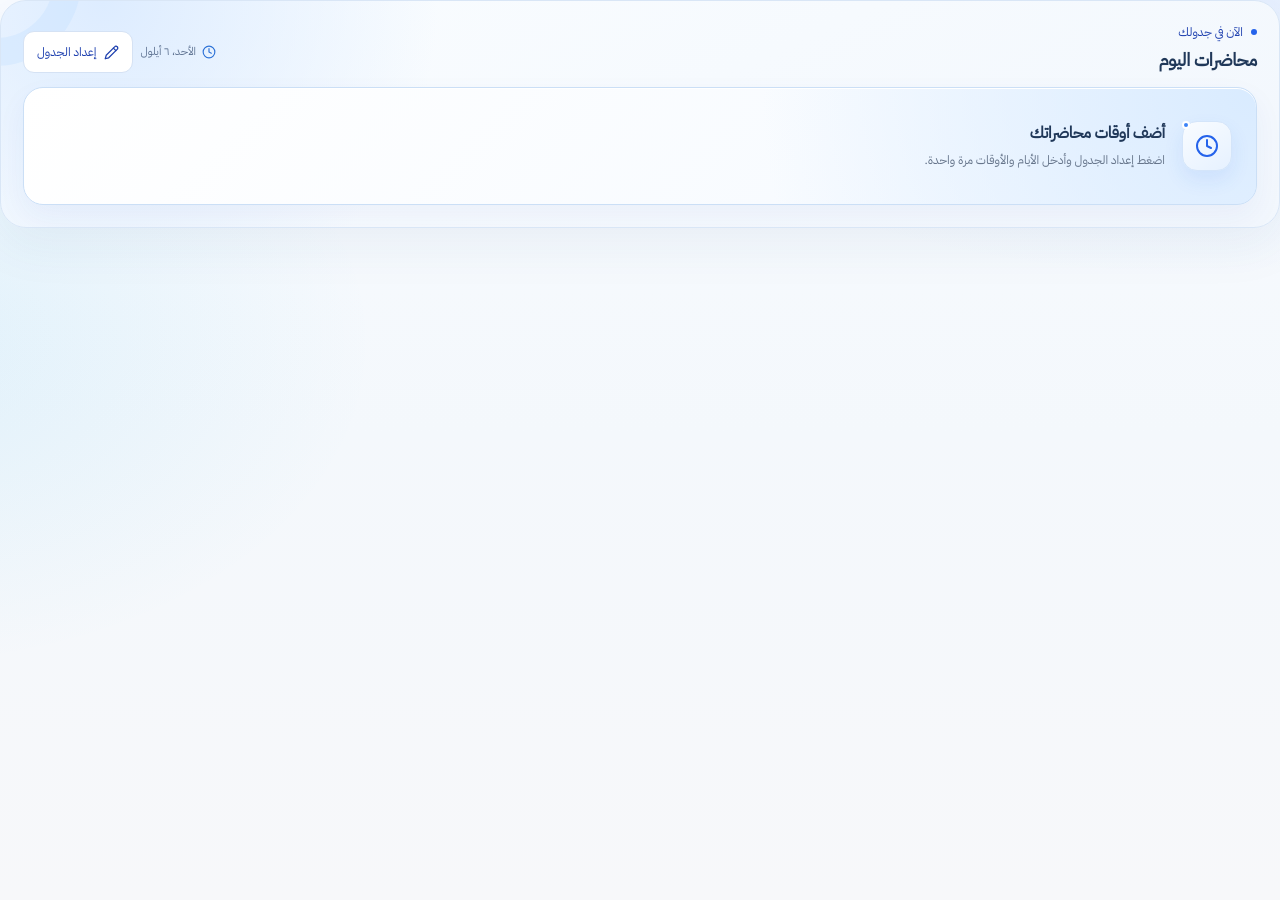
current lecture widget › explains an invalid end time without treating it as a live lecture
Click the button "إعداد الجدول" at (78, 52), box [23,31,132,73]
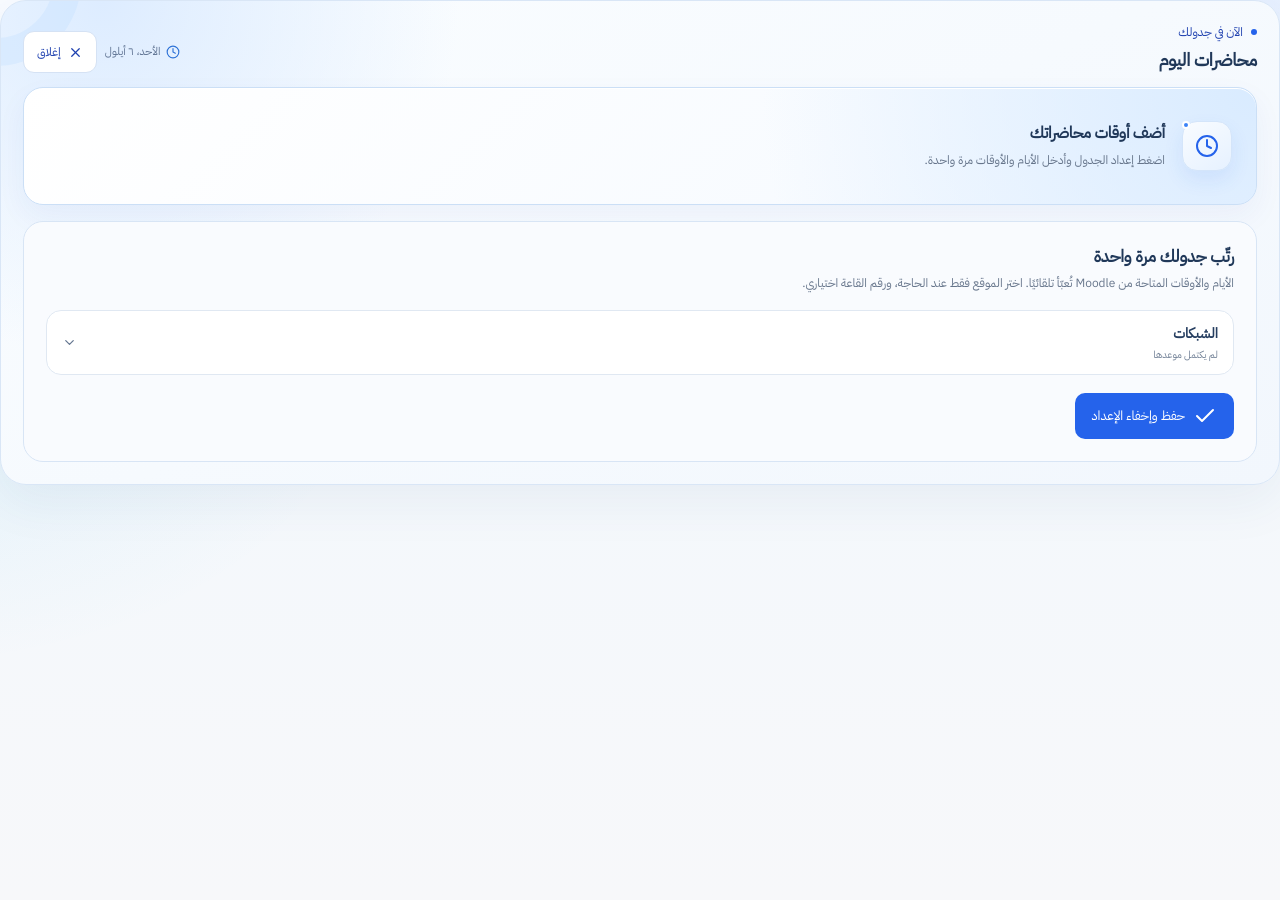
Click the text "الشبكات" at (1196, 333), box [1173,322,1218,344]
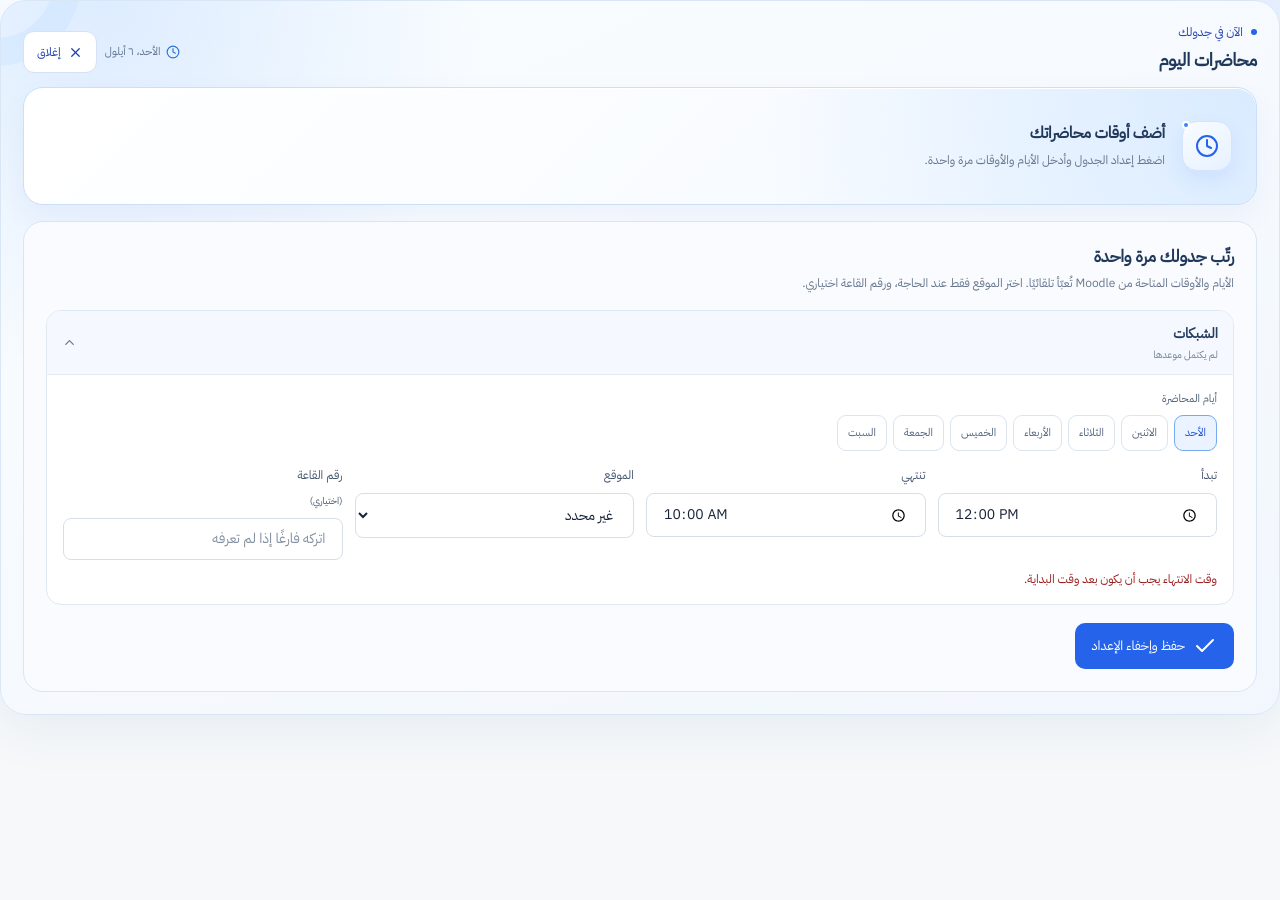
Expected: the message shows "وقت الانتهاء يجب أن يكون بعد وقت البداية", [1024,570,1217,588]
